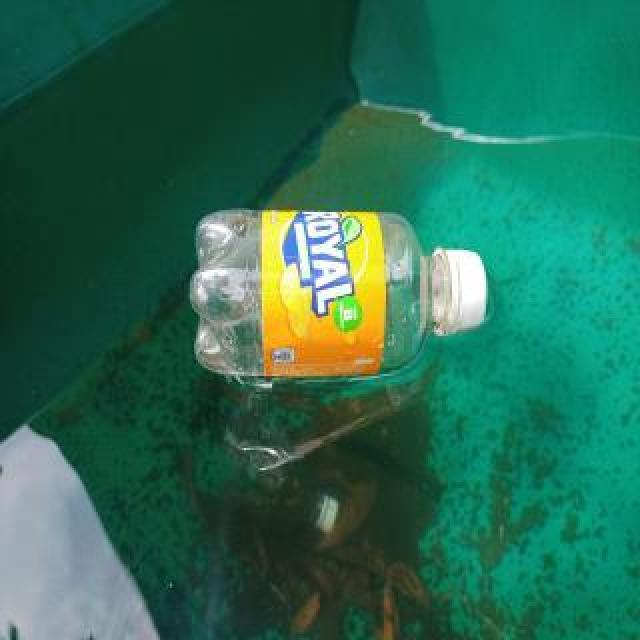bottle: (187, 201, 491, 389)
